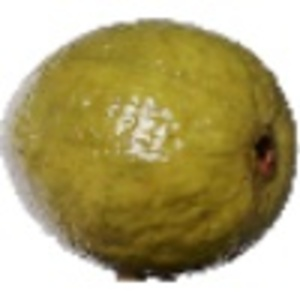goiaba: (8, 11, 297, 269)
